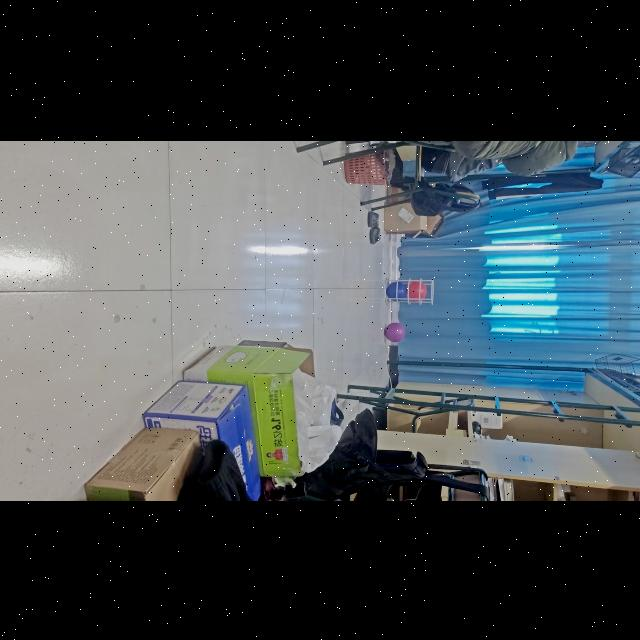B: (386, 281, 406, 297)
P: (385, 322, 405, 341)
R: (410, 280, 427, 300)
S: (388, 278, 437, 303)
